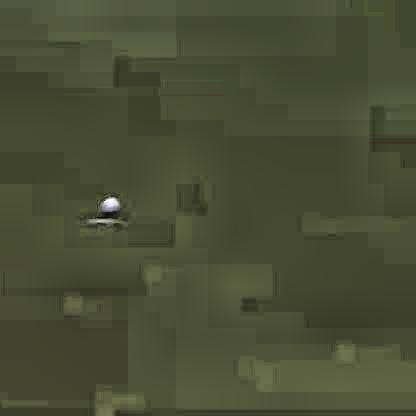golfball: (97, 194, 116, 213)
